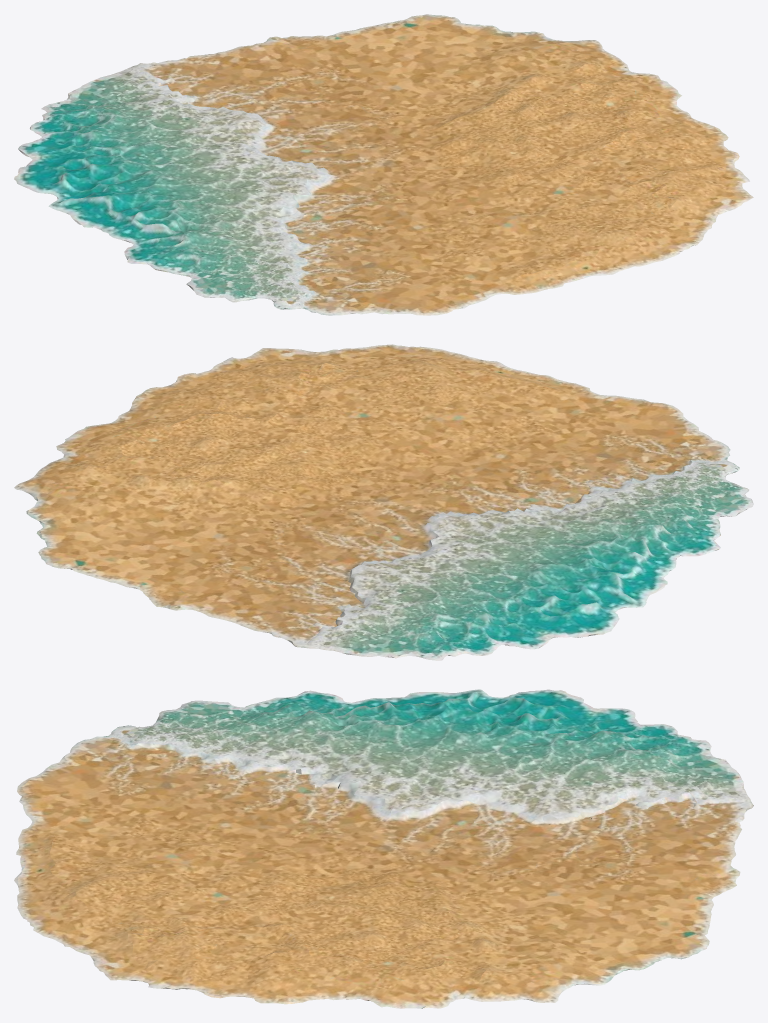
File: beach_lite.glb
3 views of the same model, one above another, from view 1: azimuth 30°, elevation 25°; view 2: azimuth 150°, elevation 25°; view 3: azimuth 270°, elevation 25° (orthographic). The views are drawn at different scales.
Parts seen in each view (by area): view 1: geometry_0; view 2: geometry_0; view 3: geometry_0.
Boxes of the visible parts, x1=… form: geometry_0: x1=14, y1=14, x2=753, y2=315; geometry_0: x1=14, y1=344, x2=753, y2=660; geometry_0: x1=14, y1=689, x2=753, y2=1008.
Size of the model in its own units: 1.87 by 0.0452 by 1.83.
Materials: 1 (1 with a texture image).
